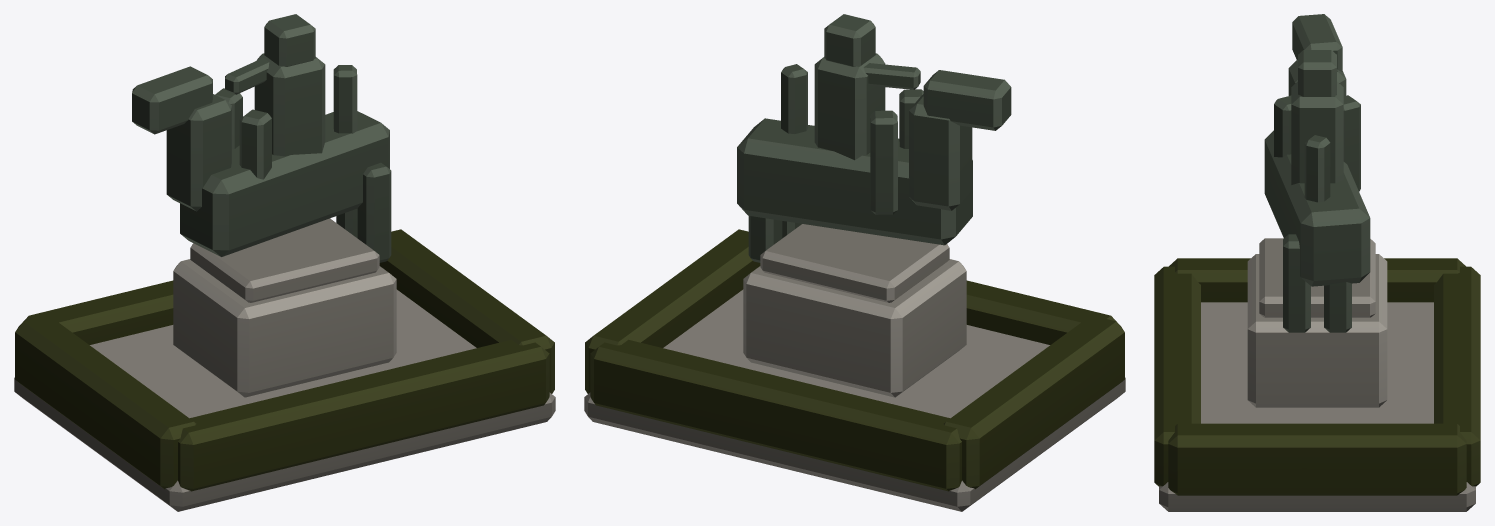
File: statue-rider-v1.glb
The picture shows the model from 3 angles, left to right: view 1: azimuth 30°, elevation 25°; view 2: azimuth 150°, elevation 25°; view 3: azimuth 270°, elevation 25°; orthographic projection. The views are drawn at different scales.
Parts seen in each view (by area): view 1: statue-rider-v1.lod0; view 2: statue-rider-v1.lod0; view 3: statue-rider-v1.lod0.
Part boxes in pixels (x1,y1,x2,y2): statue-rider-v1.lod0: (14,14,555,511); statue-rider-v1.lod0: (584,14,1125,511); statue-rider-v1.lod0: (1154,14,1480,511).
Bounding box in the file's own units: 4.7 × 4.4 × 3.5.
